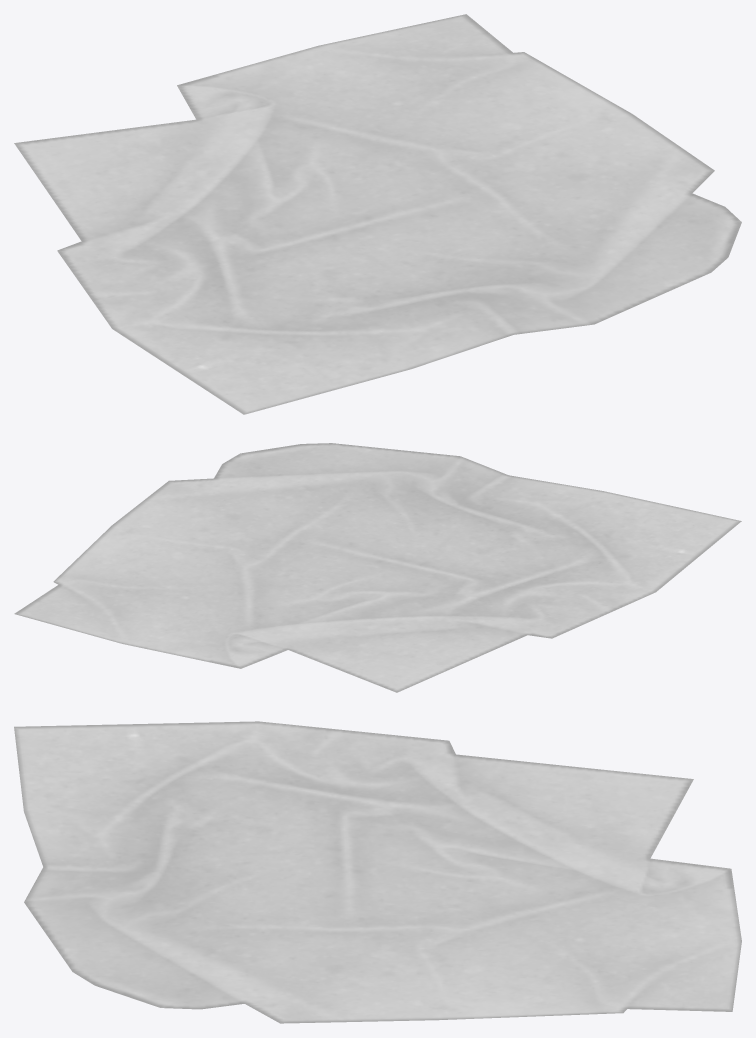
Rendered from Pfb_Canvas_Ground_2x2__7.fbx.
The picture shows the model from 3 angles, top to bottom: view 1: azimuth 30°, elevation 25°; view 2: azimuth 150°, elevation 25°; view 3: azimuth 270°, elevation 25°; orthographic projection. The views are drawn at different scales.
Visible parts, largest first — view 1: Mat_Canvas_Ground_Blue; view 2: Mat_Canvas_Ground_Blue; view 3: Mat_Canvas_Ground_Blue.
Part boxes in pixels (<box>): Mat_Canvas_Ground_Blue: <box>14,14,741,414</box>; Mat_Canvas_Ground_Blue: <box>14,443,741,692</box>; Mat_Canvas_Ground_Blue: <box>14,721,741,1023</box>.
Bounding box in the file's own units: 1.89 × 0.00538 × 1.92.
1 material, 1 textured.
